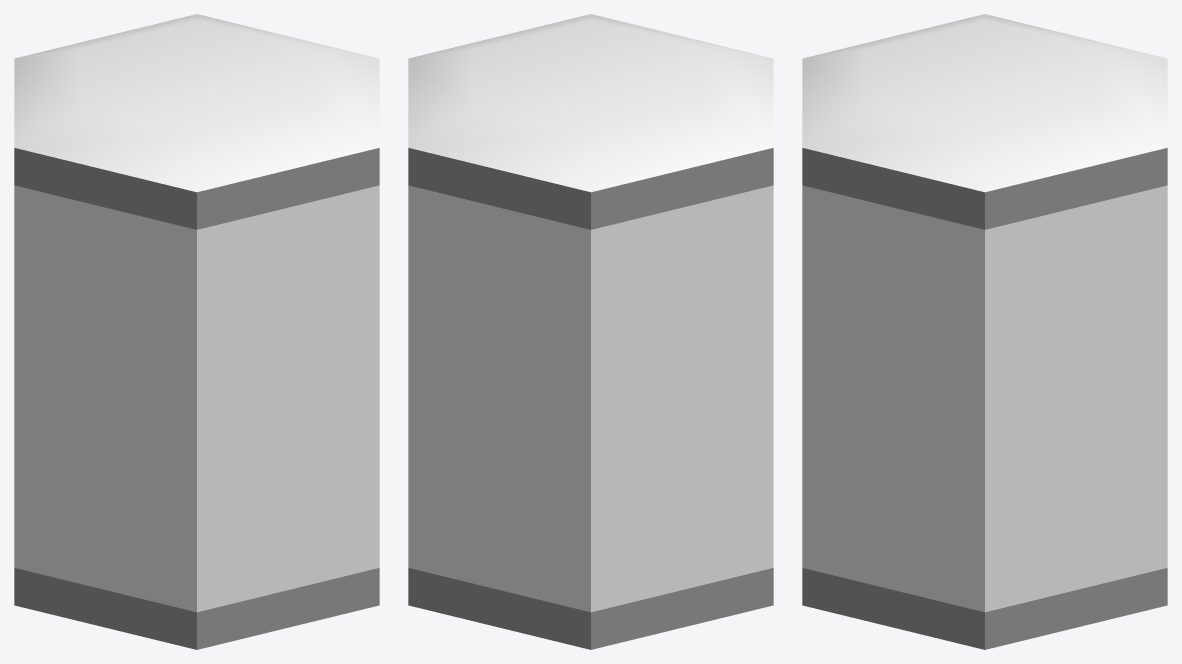
The model's file is WoodBarrelA.fbx.
3 views of the same model, side by side, from view 1: azimuth 30°, elevation 25°; view 2: azimuth 150°, elevation 25°; view 3: azimuth 270°, elevation 25° (orthographic).
Parts seen in each view (by area): view 1: WoodBarrelA; view 2: WoodBarrelA; view 3: WoodBarrelA.
Part boxes in pixels (x1,y1,x2,y2): WoodBarrelA: (14, 14, 379, 649); WoodBarrelA: (408, 14, 773, 649); WoodBarrelA: (802, 14, 1167, 649).
Size of the model in its own units: 68.46 by 90.9 by 59.28.
Materials: 1 (1 with a texture image).
